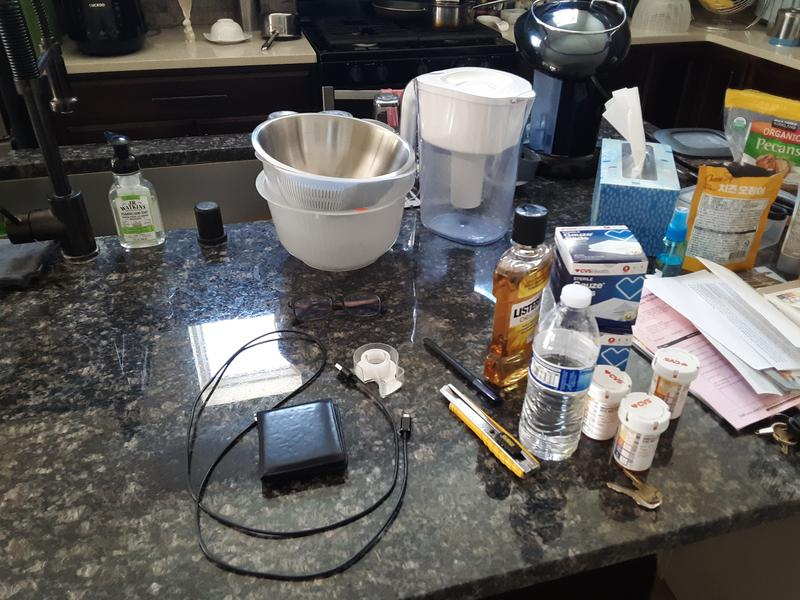glasses: (289, 290, 388, 326)
